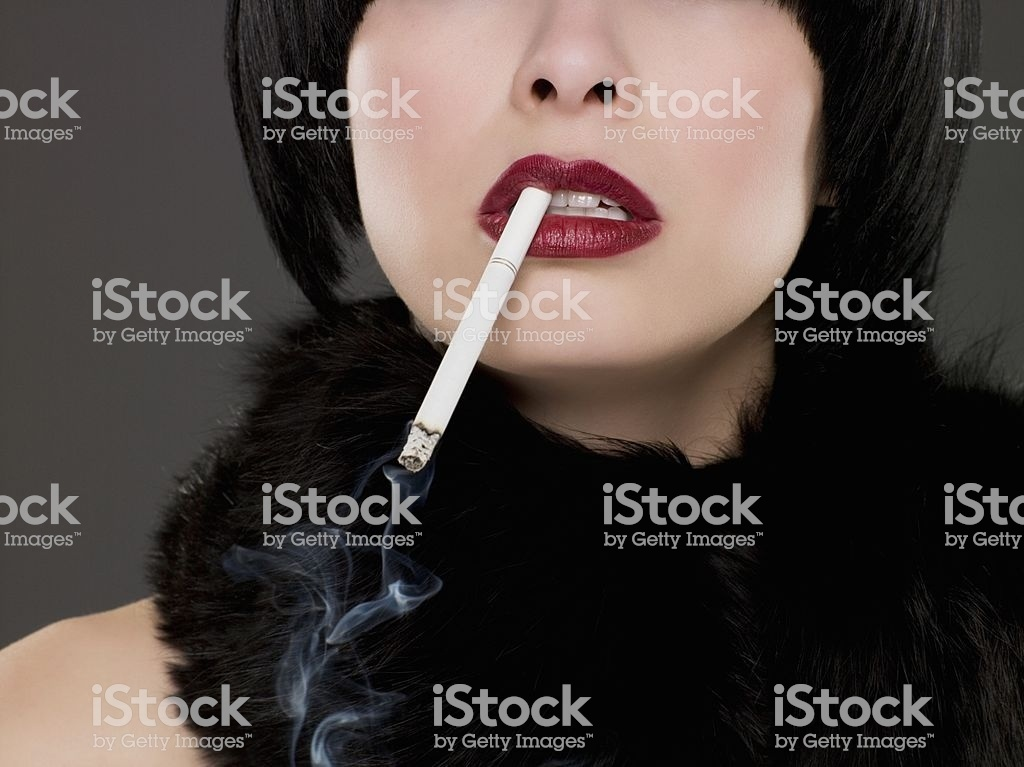sigaretta: (398, 168, 550, 489)
